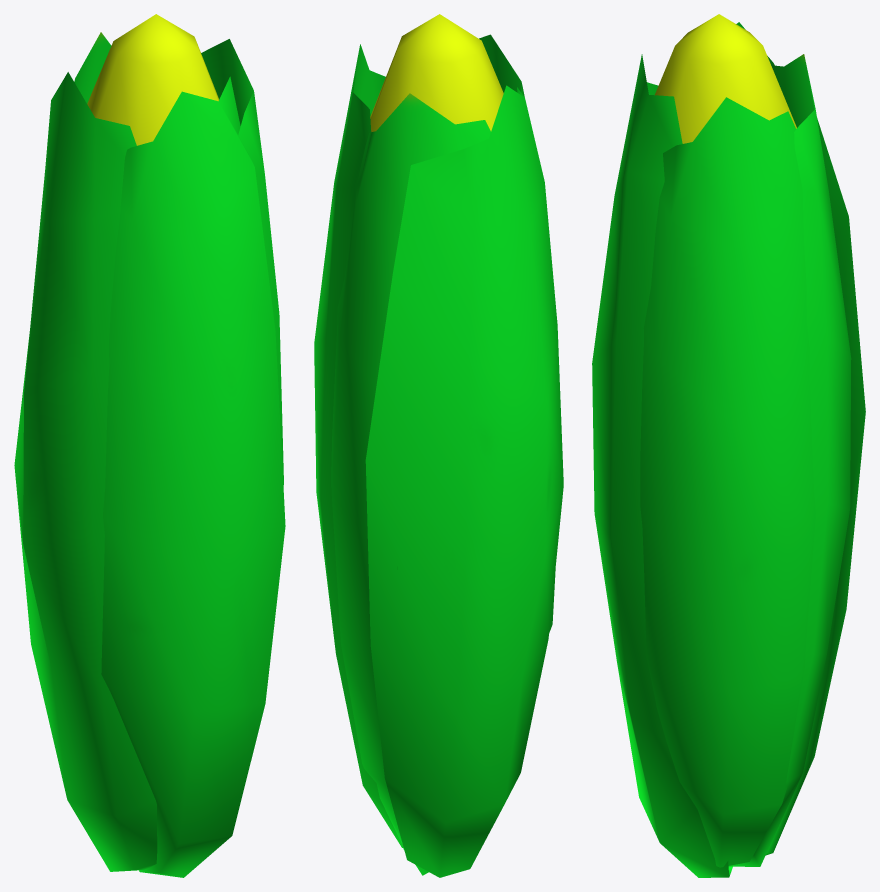
The model's file is Corn_004.glb.
3 views of the same model, side by side, from view 1: azimuth 30°, elevation 25°; view 2: azimuth 150°, elevation 25°; view 3: azimuth 270°, elevation 25° (orthographic).
Visible parts, largest first — view 1: Corn.004; view 2: Corn.004; view 3: Corn.004.
Boxes of the visible parts, x1=… form: Corn.004: x1=14, y1=14, x2=285, y2=877; Corn.004: x1=314, y1=14, x2=563, y2=877; Corn.004: x1=592, y1=14, x2=865, y2=877.
Size of the model in its own units: 0.1493 by 0.513 by 0.1487.
1 material, 1 textured.
